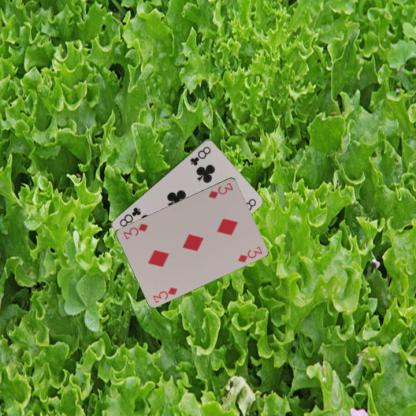3d: (150, 284, 179, 304), (206, 180, 234, 199)
8c: (187, 143, 212, 167)
